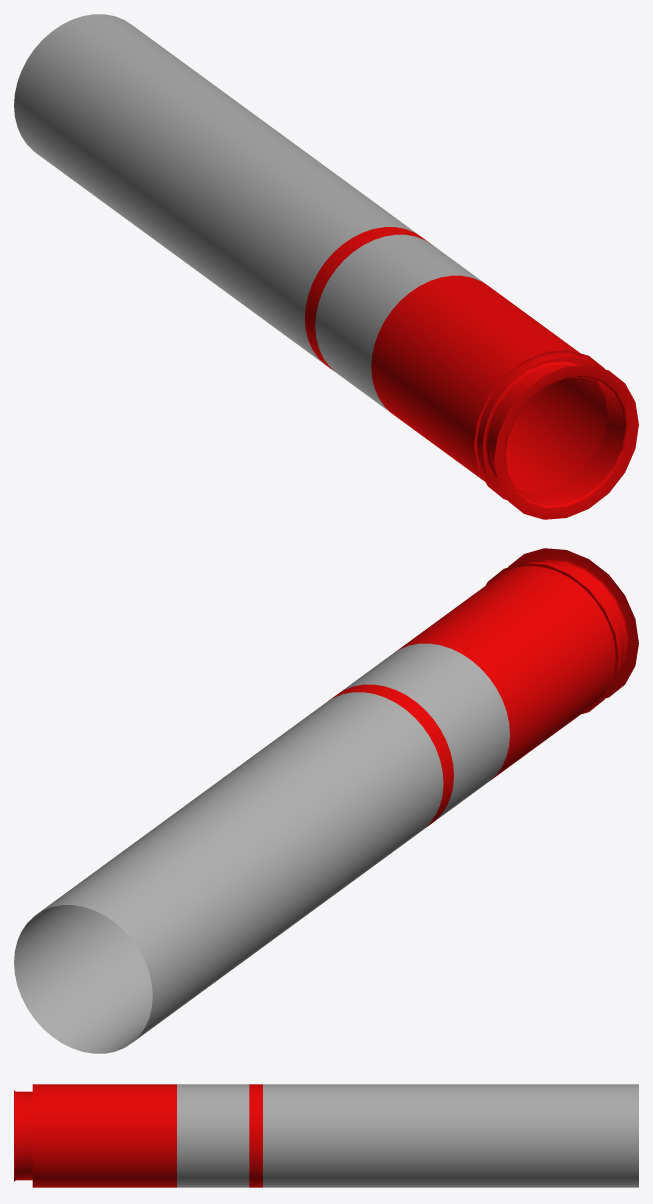
3 renders of one model, top to bottom at view 1: azimuth 30°, elevation 25°; view 2: azimuth 150°, elevation 25°; view 3: azimuth 270°, elevation 25°, orthographic. The views are drawn at different scales.
Visible parts, largest first — view 1: tube_05, transition_05; view 2: tube_05, transition_05; view 3: tube_05, transition_05.
Boxes of the visible parts, x1=… form: tube_05: x1=14, y1=14, x2=607, y2=495; transition_05: x1=474, y1=350, x2=638, y2=519; tube_05: x1=14, y1=562, x2=621, y2=1053; transition_05: x1=486, y1=548, x2=638, y2=714; tube_05: x1=32, y1=1084, x2=638, y2=1187; transition_05: x1=14, y1=1090, x2=32, y2=1181.
Size of the model in its own units: 1746 by 1746 by 10090.
